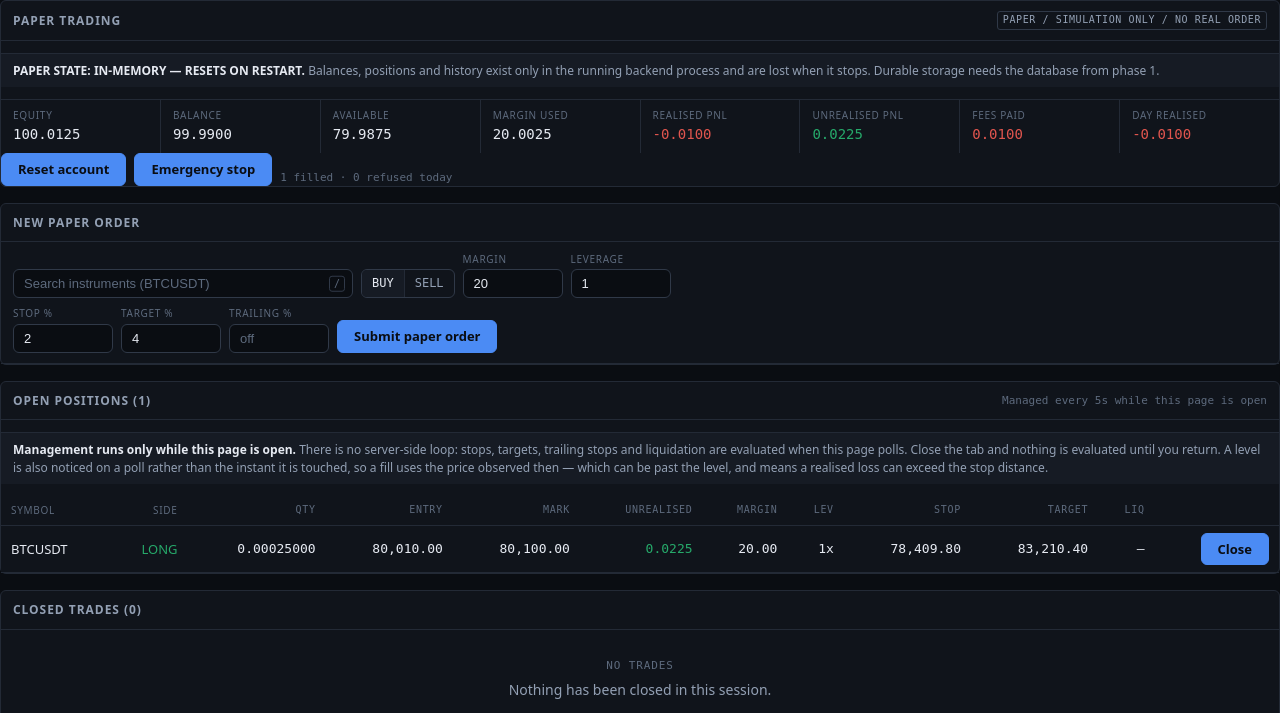
PaperPage › submits an order and reports the fill with its price source
Expected: the text "Equity" is shown, [13,108,52,122]
Step 1. Click the button "Submit paper order" → x=417, y=336, box [337,320,498,353]
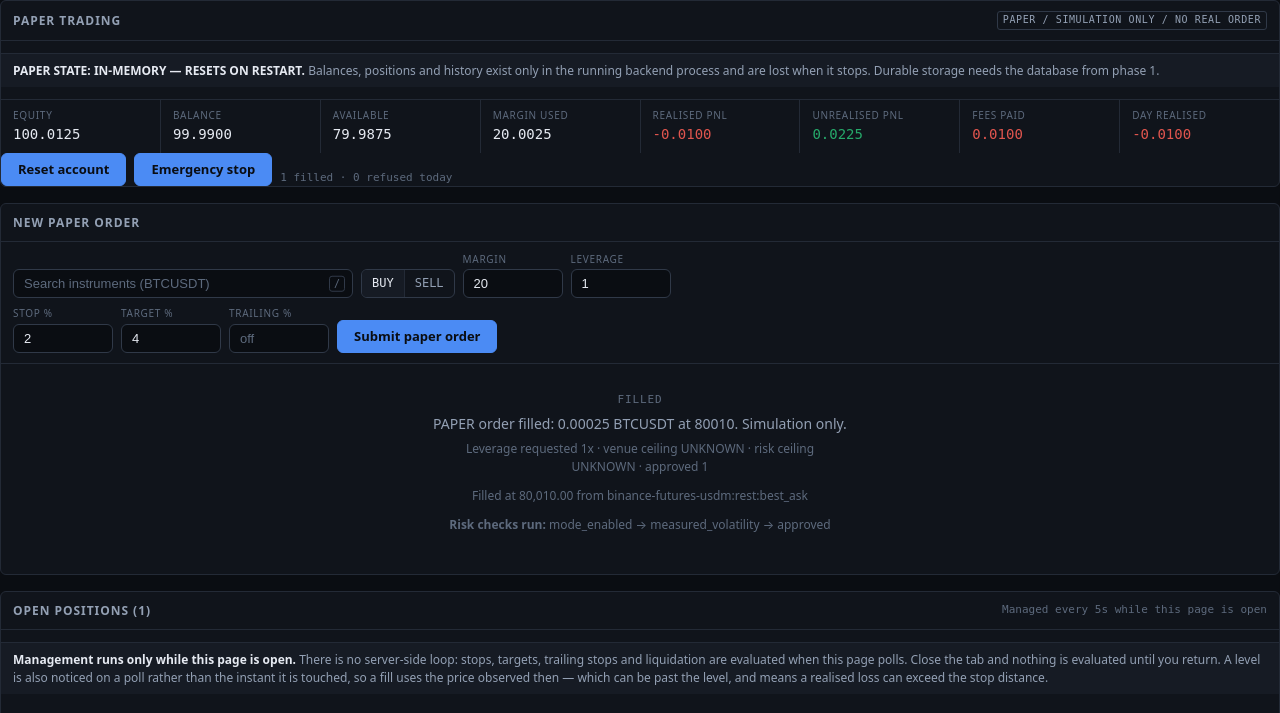
Expected: the text "Filled at 80,010.00 from binance-futures-usdm:rest:best_ask" is shown, [472,487,808,504]
Expected: the text "PAPER order filled" is shown, [433,414,847,433]
